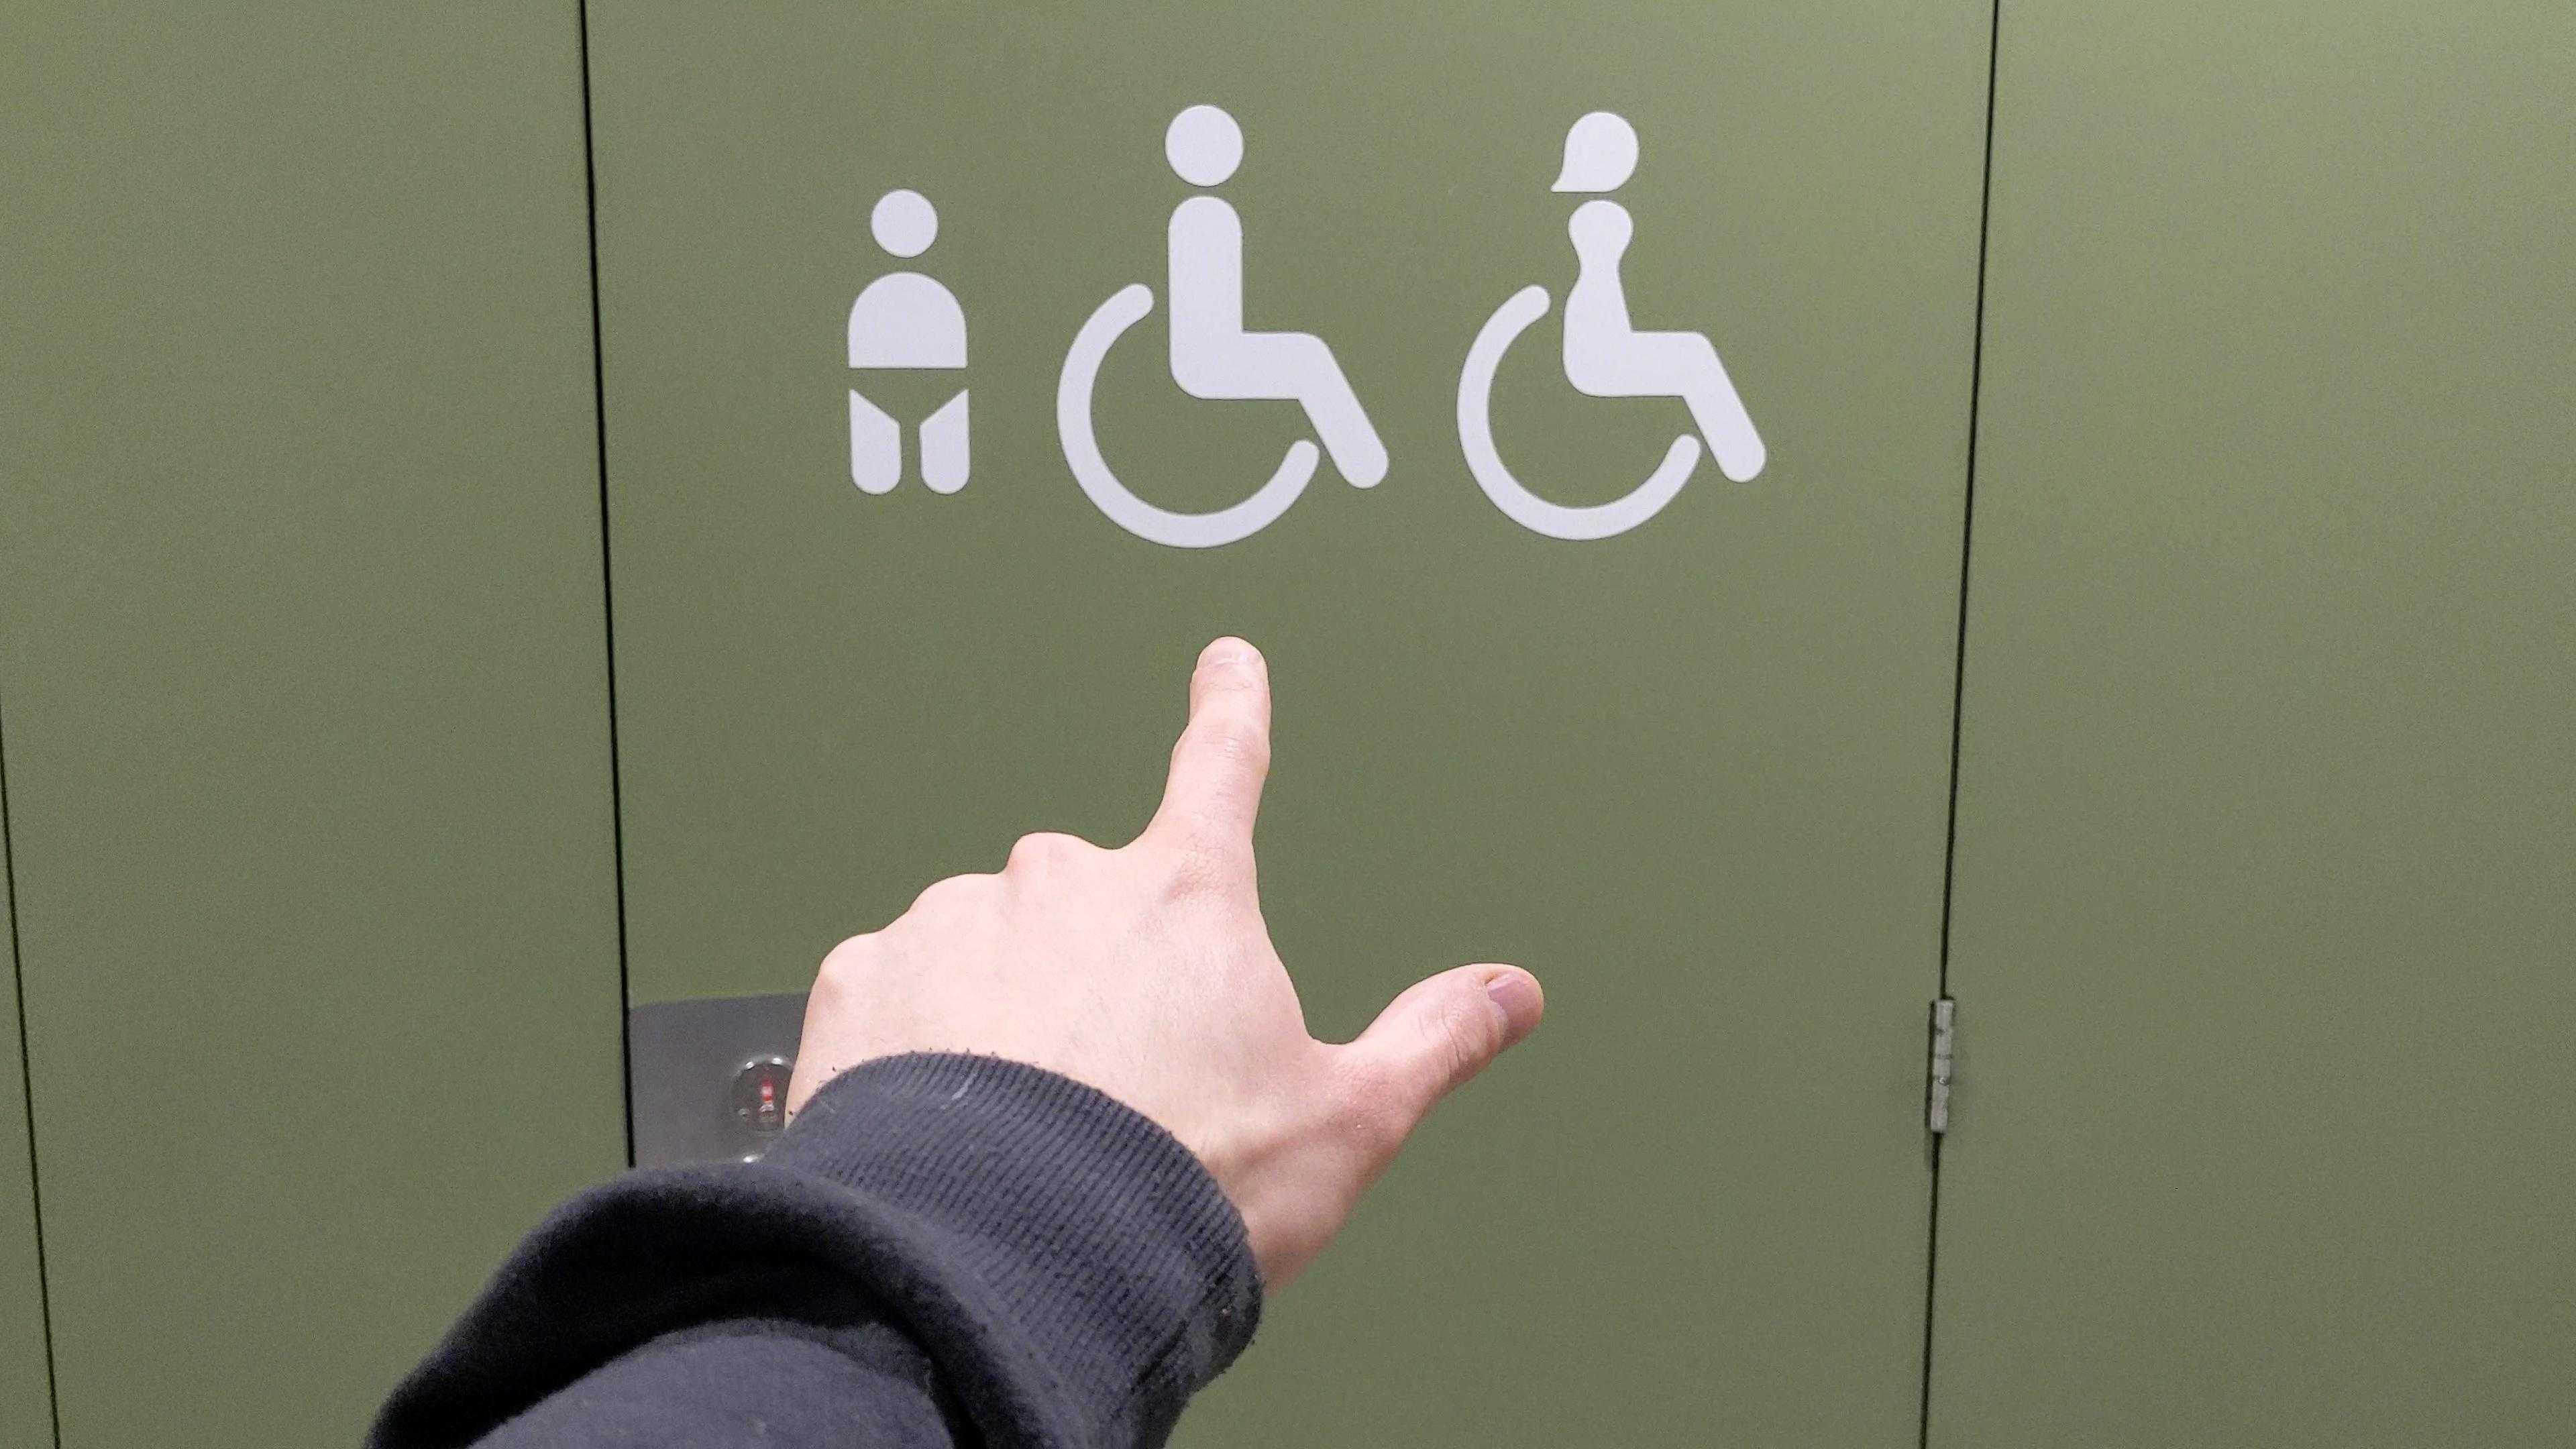handicapped symbol: (1054, 99, 1394, 554), (1454, 108, 1771, 547)
